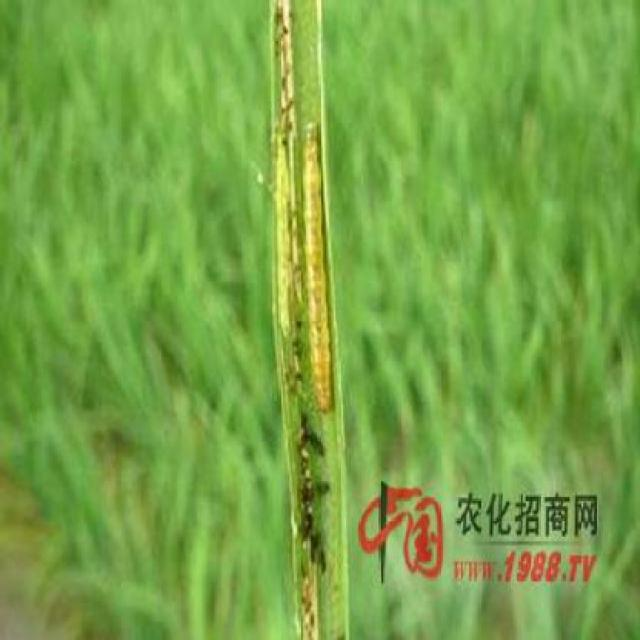leaf-folder: (275, 114, 351, 415)
